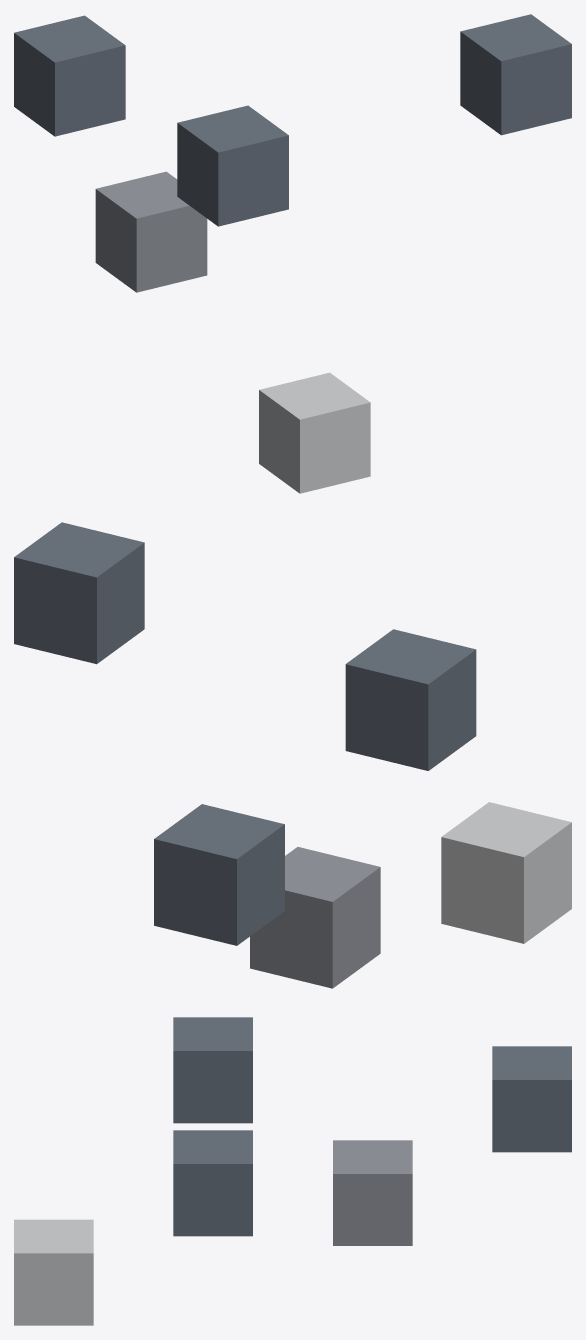
Rendered from bld_warehouse_gray.glb.
3 views of the same model, one above another, from view 1: azimuth 30°, elevation 25°; view 2: azimuth 150°, elevation 25°; view 3: azimuth 270°, elevation 25° (orthographic). The views are drawn at different scales.
Visible parts, largest first — view 1: world; view 2: world; view 3: world.
Part boxes in pixels (<box>): world: <box>14,14,571,493</box>; world: <box>14,522,571,988</box>; world: <box>14,1017,571,1325</box>.
Bounding box in the file's own units: 5 × 4.1 × 7.
